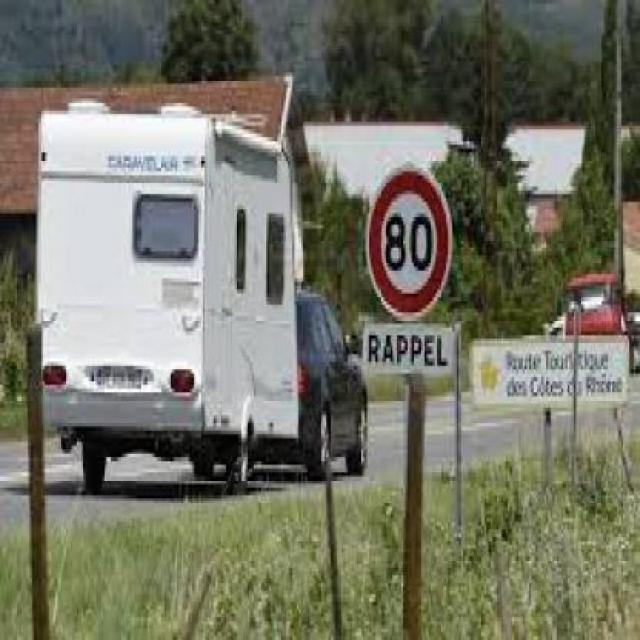forb_speed_over_80: (367, 164, 451, 316)
